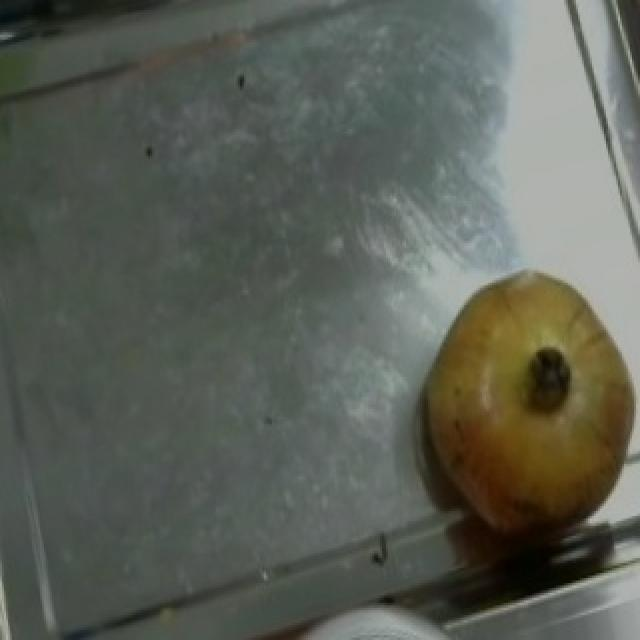fruit: (394, 240, 640, 536)
